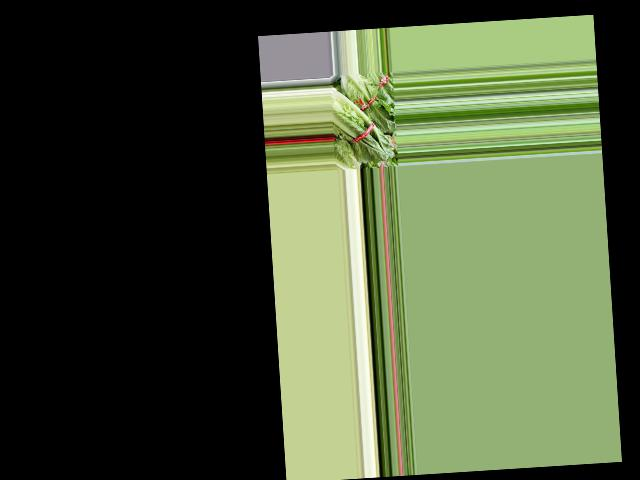lettuce: (329, 85, 395, 166)
